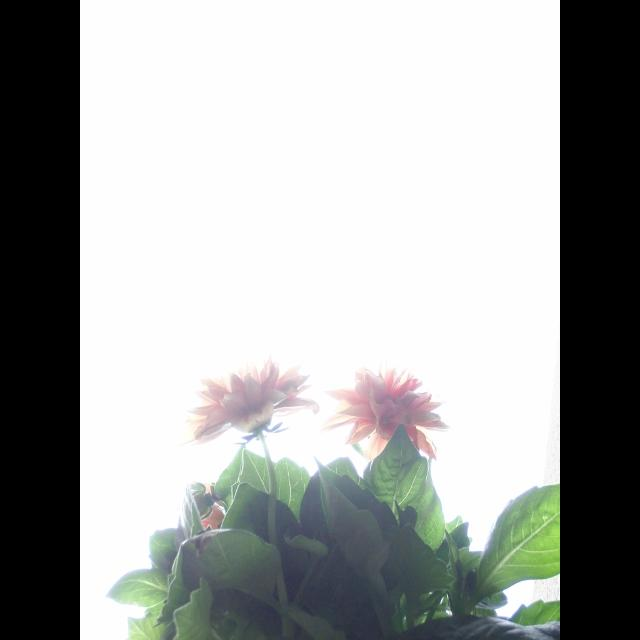Flower: (319, 358, 453, 459), (186, 354, 322, 446), (180, 474, 230, 530)
